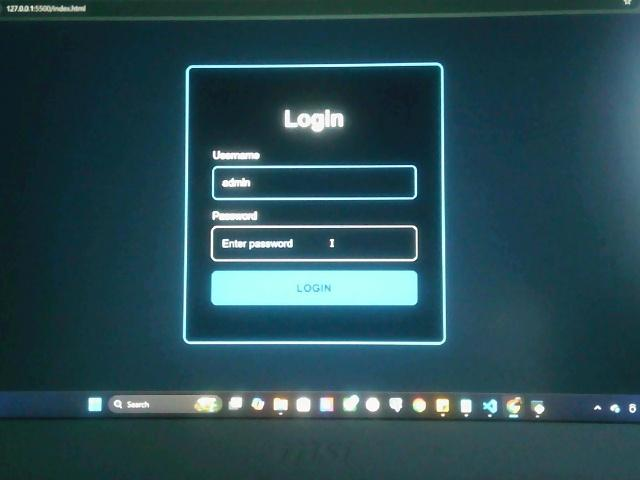login_button: (210, 269, 419, 307)
login_form: (184, 63, 445, 345)
password_input: (211, 223, 419, 263)
title_text: (281, 106, 348, 136)
username_input: (211, 163, 419, 202)
